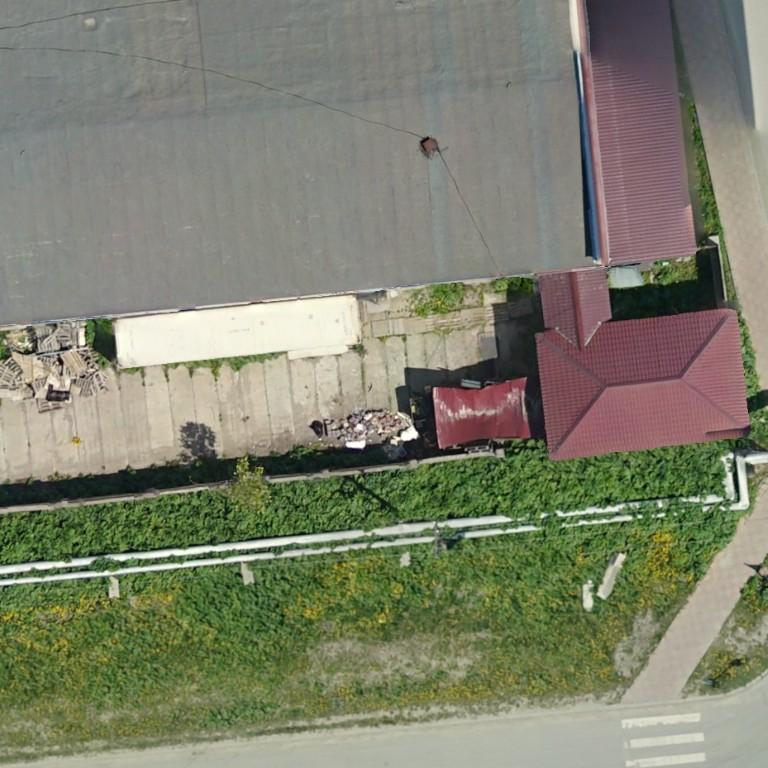hogweed: (0, 443, 727, 564), (481, 510, 660, 623), (176, 565, 316, 650), (678, 512, 737, 573)
